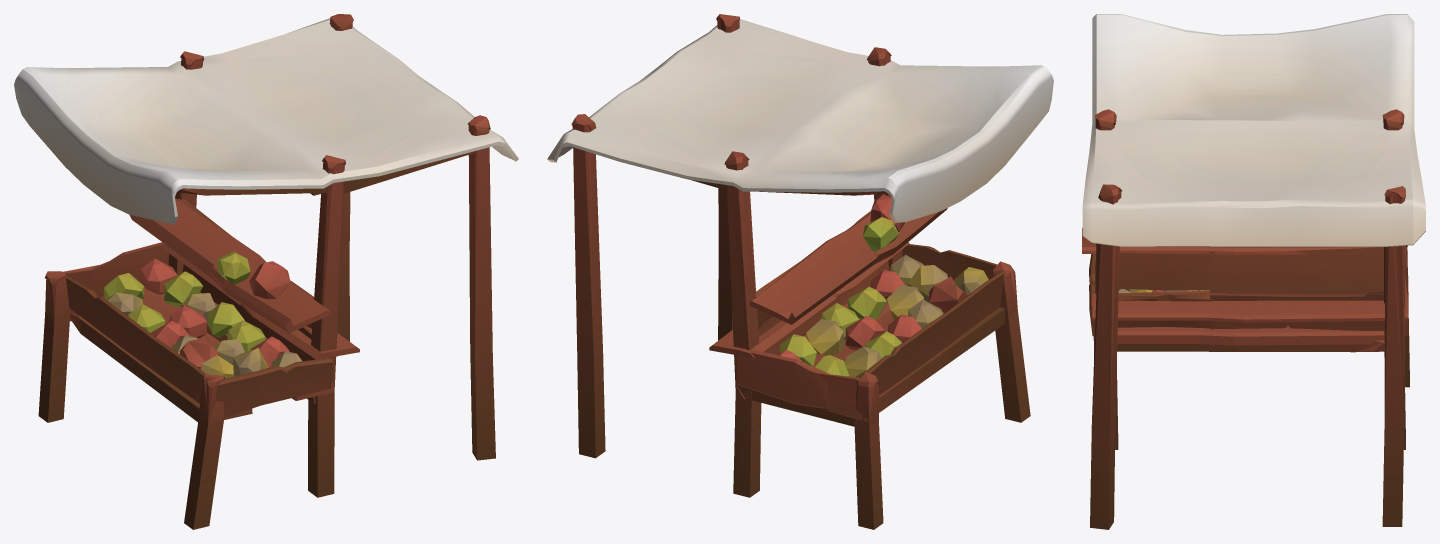
3 views of the same model, side by side, from view 1: azimuth 30°, elevation 25°; view 2: azimuth 150°, elevation 25°; view 3: azimuth 270°, elevation 25° (orthographic).
Visible parts, largest first — view 1: MarketStand; view 2: MarketStand; view 3: MarketStand.
Boxes of the visible parts, bbox=[...] form: MarketStand: bbox=[14, 14, 518, 529]; MarketStand: bbox=[547, 14, 1053, 529]; MarketStand: bbox=[1082, 14, 1425, 529].
Size of the model in its own units: 3.44 by 3.35 by 2.91.
Materials: 1 (1 with a texture image).
